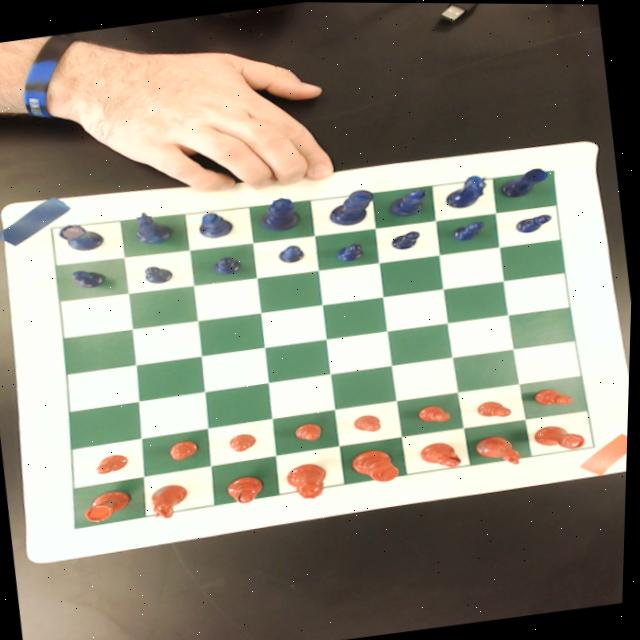B: (387, 187, 431, 218), (198, 209, 236, 238)
K: (327, 187, 379, 226)
N: (444, 171, 494, 209), (134, 207, 176, 246)
P: (71, 266, 110, 290), (451, 218, 488, 241), (516, 212, 554, 233), (143, 262, 177, 285), (391, 228, 424, 250), (336, 240, 367, 262), (278, 242, 308, 264), (214, 253, 244, 275)
Q: (257, 193, 306, 233)
R: (499, 164, 553, 199), (60, 219, 107, 253)
b: (420, 438, 466, 470), (227, 472, 270, 504)
k: (352, 445, 405, 485)
n: (474, 431, 527, 467), (148, 481, 194, 520)
p: (535, 384, 578, 407), (478, 396, 517, 419), (96, 452, 134, 475), (419, 401, 456, 424), (169, 438, 203, 461), (230, 430, 261, 453), (355, 411, 385, 433), (297, 420, 327, 442)
q: (286, 460, 333, 501)
r: (84, 487, 138, 524), (536, 419, 591, 453)
